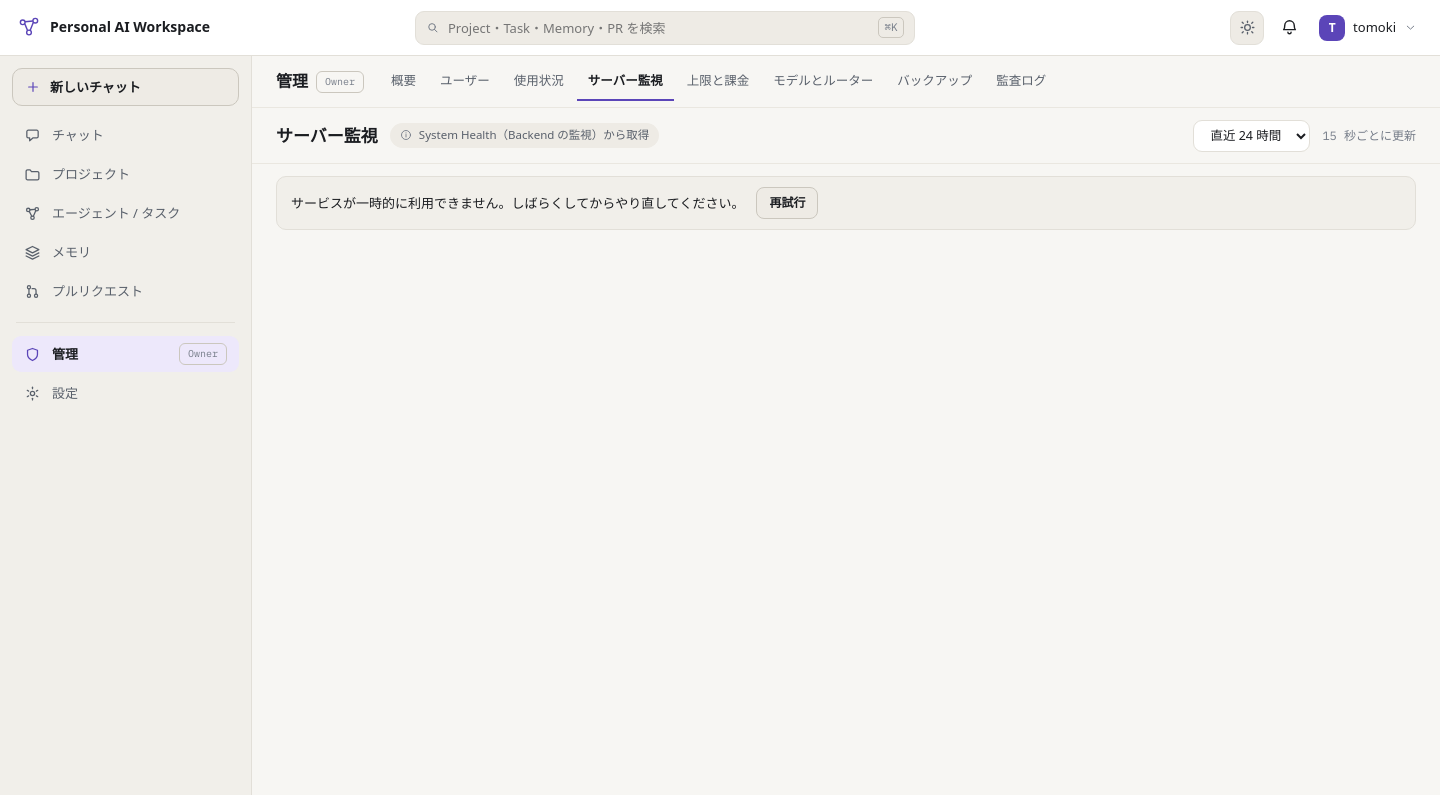
Test: サーバー監視 › shows the Backend's refusal and tries again
Expected: the message "サービスが一時的に利用できません。しばらくしてからやり直してください。" is shown, [291,193,744,213]
Click the button "再試行" at (788, 203), box [756,187,818,219]
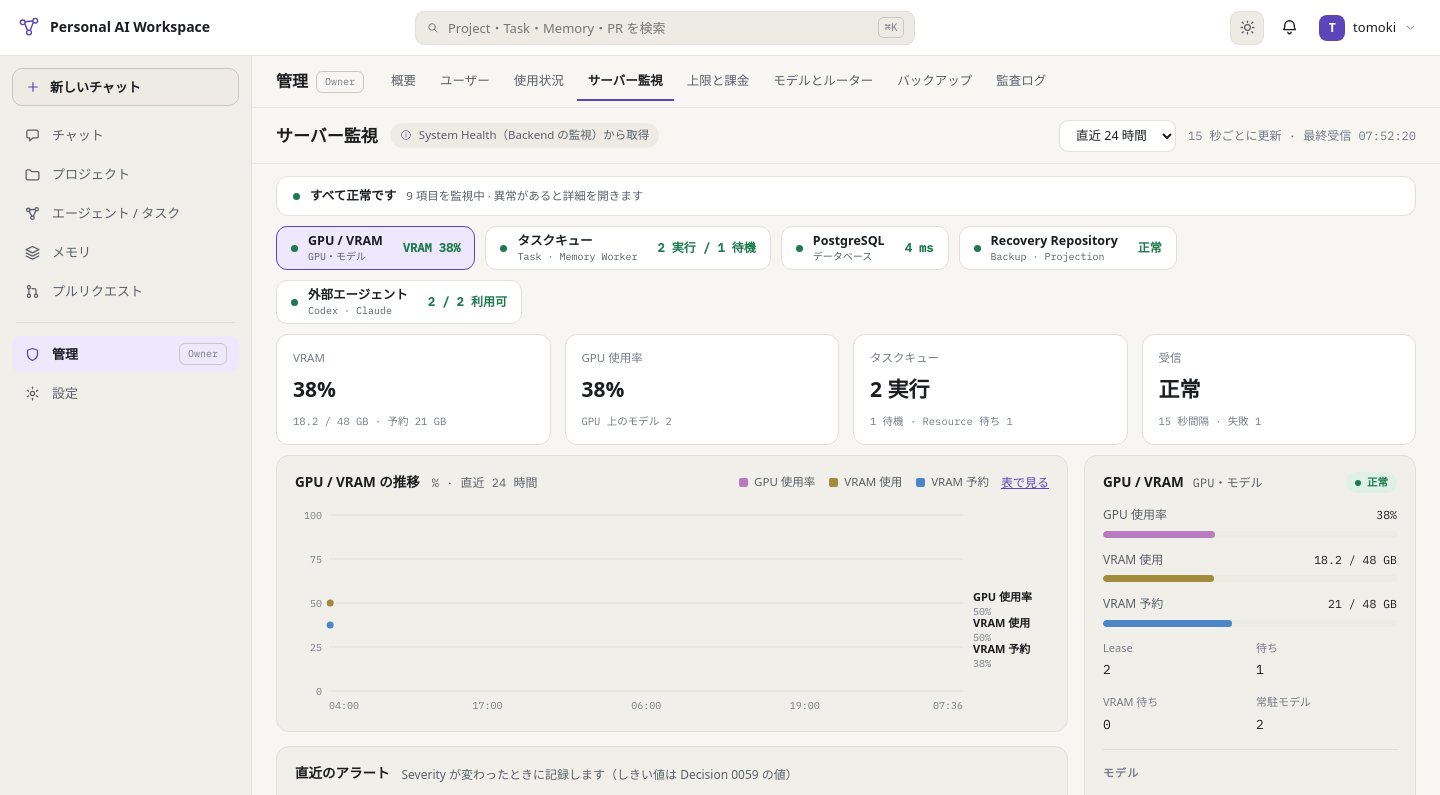
Result: the text "すべて正常です" is shown at [310,186,396,206]
